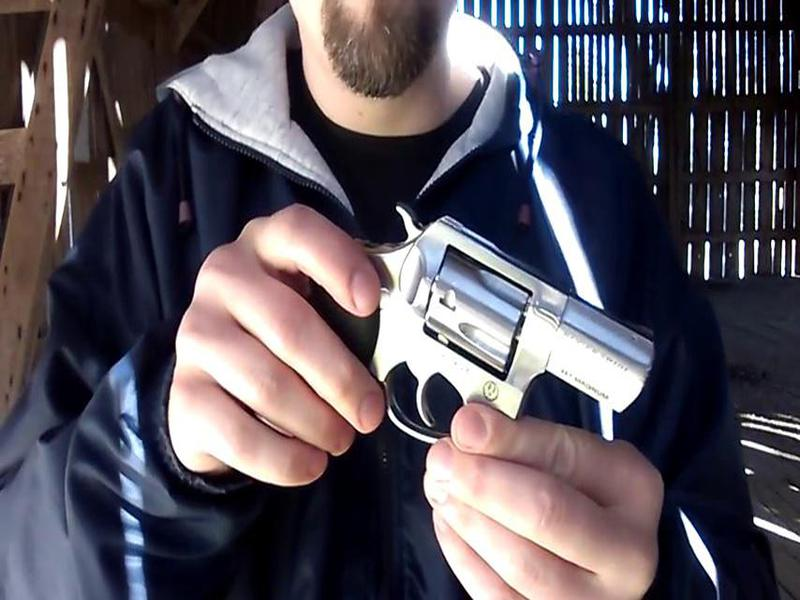Revolver: (337, 193, 669, 452)
